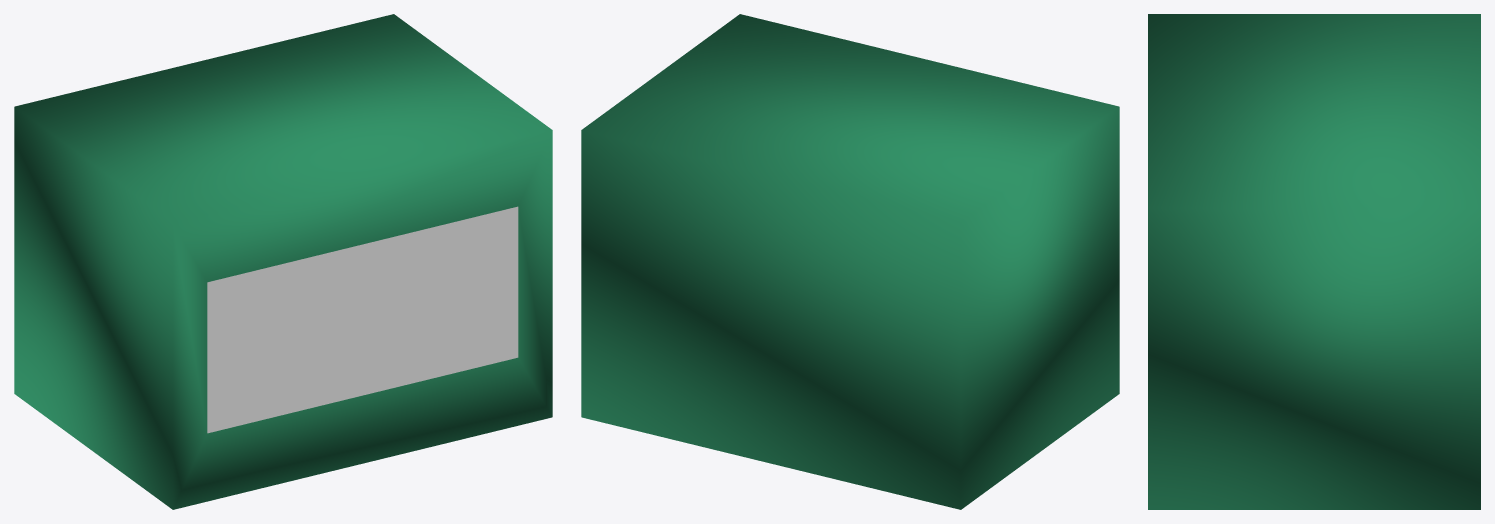
File: balance-body.glb
3 renders of one model, left to right at view 1: azimuth 30°, elevation 25°; view 2: azimuth 150°, elevation 25°; view 3: azimuth 270°, elevation 25°, orthographic. The views are drawn at different scales.
Parts seen in each view (by area): view 1: Balance Body; view 2: Balance Body; view 3: Balance Body.
Boxes of the visible parts, bbox=[...] form: Balance Body: bbox=[14, 14, 552, 509]; Balance Body: bbox=[581, 14, 1119, 509]; Balance Body: bbox=[1148, 14, 1480, 509].
Size of the model in its own units: 2.76 by 2 by 2.
